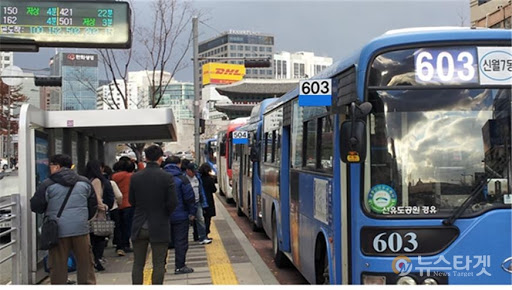bnum: (413, 49, 478, 84)
